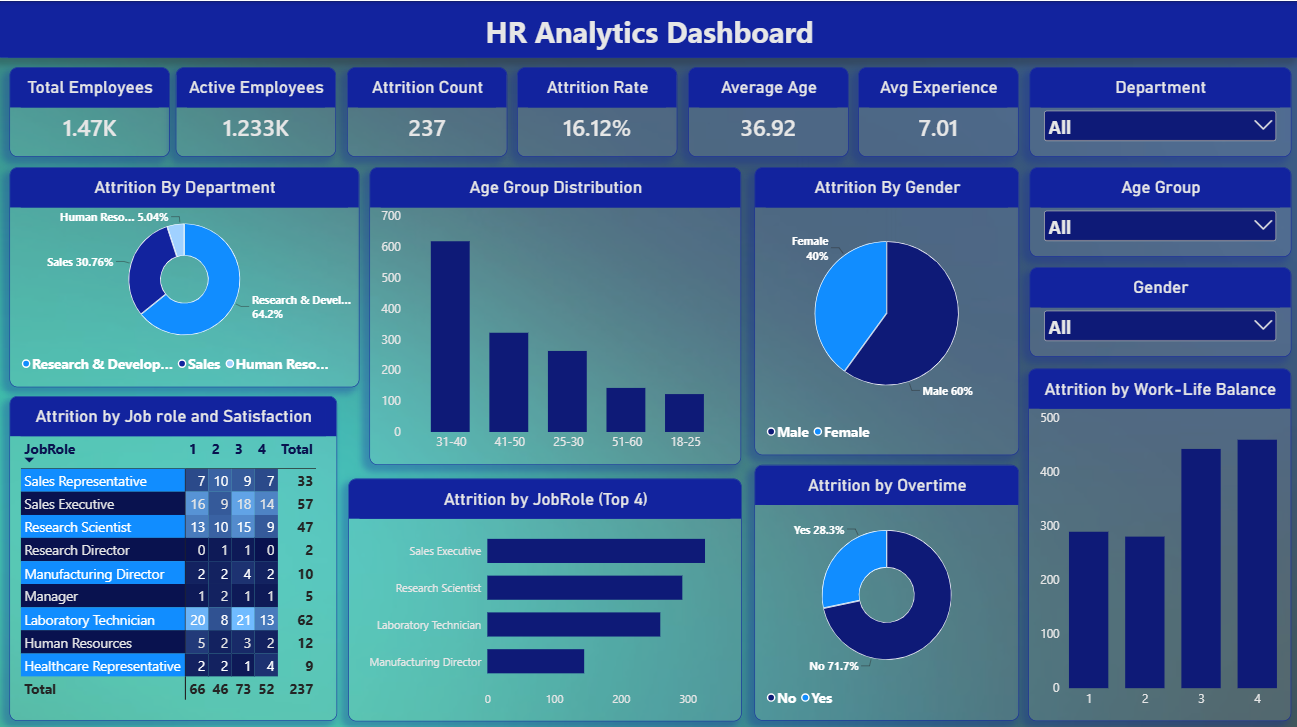

The page's visual inventory and layout, read from the dashboard file:
{"tool":"powerbi","page":{"name":"Page 1","canvas":[1920,1080],"ordinal":0},"visuals":[{"type":"donutChart","title":"Attrition By Department","fields":{"Category":["WA_Fn-UseC_-HR-Employee-Attrition.Department"],"Y":["Sum(WA_Fn-UseC_-HR-Employee-Attrition.EmployeeNumber)"]},"box":[19.2,244.8,515.2,323.6],"z":0},{"type":"textbox","title":"HR Analytics Dashboard","box":[0,0,1920.4,84.4],"z":1000},{"type":"barChart","title":"Attrition by JobRole (Top 4)","fields":{"Y":["CountNonNull(WA_Fn-UseC_-HR-Employee-Attrition.Attrition)"],"Category":["WA_Fn-UseC_-HR-Employee-Attrition.JobRole"]},"box":[517.4,702.6,579.1,357.7],"z":2000},{"type":"donutChart","title":"Attrition by Overtime","fields":{"Category":["WA_Fn-UseC_-HR-Employee-Attrition.OverTime"],"Y":["CountNonNull(WA_Fn-UseC_-HR-Employee-Attrition.EmployeeNumber)"]},"box":[1115.6,683.4,389.6,376.8],"z":3000},{"type":"cardVisual","title":"Total Employees","fields":{"Data":["CountNonNull(WA_Fn-UseC_-HR-Employee-Attrition.EmployeeNumber)"]},"box":[18,98,236,132],"z":4000},{"type":"cardVisual","title":"Avg Experience","fields":{"Data":["Avg(WA_Fn-UseC_-HR-Employee-Attrition.YearsAtCompany)"]},"box":[1268,98,236,132],"z":5000},{"type":"cardVisual","title":"Attrition Rate","fields":{"Data":["WA_Fn-UseC_-HR-Employee-Attrition.Attrition %"]},"box":[766,98,236,132],"z":6000},{"type":"cardVisual","title":"Attrition Count","fields":{"Data":["Sum(WA_Fn-UseC_-HR-Employee-Attrition.Attrition_Count)"]},"box":[516,98,236,132],"z":7000},{"type":"cardVisual","title":"Active Employees","fields":{"Data":["CountNonNull(WA_Fn-UseC_-HR-Employee-Attrition.EmployeeCount)"]},"box":[264,98,236,132],"z":8000},{"type":"cardVisual","title":"Average Age","fields":{"Data":["Avg(WA_Fn-UseC_-HR-Employee-Attrition.Age)"]},"box":[1018,98,236,132],"z":9000},{"type":"pivotTable","title":"Attrition by Job role and Satisfaction","fields":{"Rows":["WA_Fn-UseC_-HR-Employee-Attrition.JobRole"],"Columns":["WA_Fn-UseC_-HR-Employee-Attrition.JobSatisfaction"],"Values":["Sum(WA_Fn-UseC_-HR-Employee-Attrition.Attrition_Count)"]},"box":[18,582,482,478],"z":10000},{"type":"slicer","title":"Department","fields":{"Values":["WA_Fn-UseC_-HR-Employee-Attrition.Department"]},"box":[1520.2,97.9,385.4,132],"z":11000},{"type":"columnChart","title":"Age Group Distribution","fields":{"Category":["WA_Fn-UseC_-HR-Employee-Attrition.Age Group "],"Y":["CountNonNull(WA_Fn-UseC_-HR-Employee-Attrition.EmployeeCount)"]},"box":[549.3,244.8,547.2,438.6],"z":12000},{"type":"pieChart","title":"Attrition By Gender","fields":{"Category":["WA_Fn-UseC_-HR-Employee-Attrition.Gender"],"Y":["Count(WA_Fn-UseC_-HR-Employee-Attrition.EmployeeNumber)"]},"box":[1115.6,244.8,389.6,423.7],"z":13000},{"type":"columnChart","title":"Attrition by Work-Life Balance","fields":{"Y":["CountNonNull(WA_Fn-UseC_-HR-Employee-Attrition.WorkLifeBalance)"],"Category":["WA_Fn-UseC_-HR-Employee-Attrition.JobSatisfaction"]},"box":[1518,540.8,387.5,519.5],"z":14000},{"type":"slicer","title":"Age Group","fields":{"Values":["WA_Fn-UseC_-HR-Employee-Attrition.Age Group "]},"box":[1520.2,244.8,385.4,132],"z":15000},{"type":"slicer","title":"Gender","fields":{"Values":["WA_Fn-UseC_-HR-Employee-Attrition.Gender"]},"box":[1520.2,391.8,385.4,132],"z":16000}]}

Visuals, with their boxes in screenshot pixels (x1, y1, x2, y2), scaled from the page's 1920x1080 canvas onto the 1297x727 screenshot:
"Attrition By Department" donutChart: (13,165,361,383)
"HR Analytics Dashboard" textbox: (0,0,1296,57)
"Attrition by JobRole (Top 4)" barChart: (350,473,741,714)
"Attrition by Overtime" donutChart: (754,460,1017,714)
"Total Employees" cardVisual: (12,66,172,155)
"Avg Experience" cardVisual: (857,66,1016,155)
"Attrition Rate" cardVisual: (517,66,677,155)
"Attrition Count" cardVisual: (349,66,508,155)
"Active Employees" cardVisual: (178,66,338,155)
"Average Age" cardVisual: (688,66,847,155)
"Attrition by Job role and Satisfaction" pivotTable: (12,392,338,714)
"Department" slicer: (1027,66,1287,155)
"Age Group Distribution" columnChart: (371,165,741,460)
"Attrition By Gender" pieChart: (754,165,1017,450)
"Attrition by Work-Life Balance" columnChart: (1025,364,1287,714)
"Age Group" slicer: (1027,165,1287,254)
"Gender" slicer: (1027,264,1287,353)
